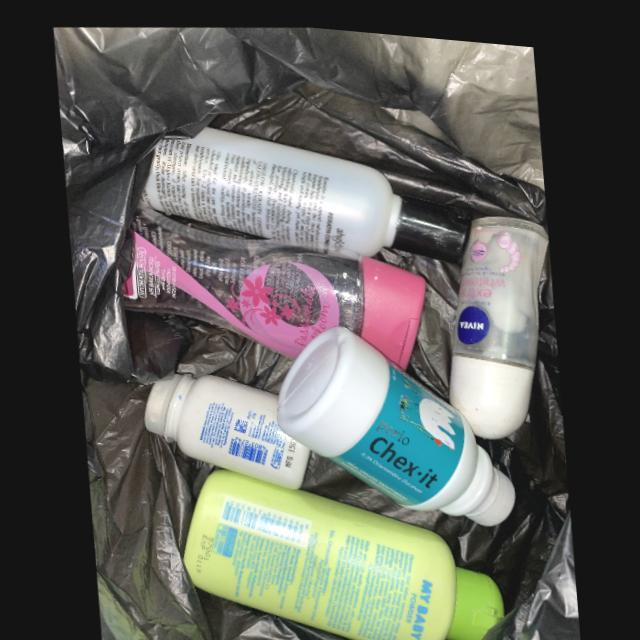glass: (449, 207, 549, 431)
plastic: (184, 464, 505, 640), (124, 202, 426, 362), (277, 320, 516, 518), (146, 123, 473, 255), (144, 371, 311, 484)
